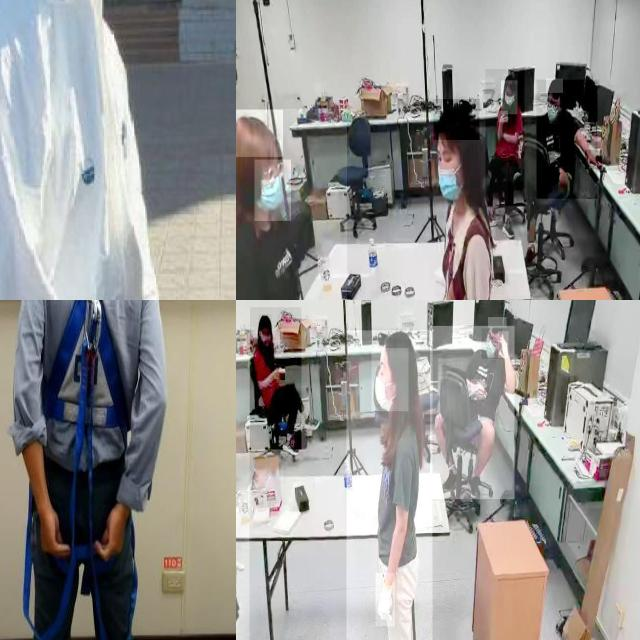Harness: (22, 300, 139, 640)
face_mask: (372, 348, 408, 411), (255, 159, 291, 221), (433, 143, 463, 212), (482, 328, 502, 358), (501, 80, 517, 114), (546, 96, 561, 132)
face_nomask: (260, 328, 272, 348)
hand_glove: (376, 573, 396, 627)
hand_noglove: (585, 150, 603, 170), (471, 379, 485, 400), (498, 331, 508, 358), (271, 365, 285, 380), (498, 111, 508, 123)
head_nohelmet: (236, 110, 283, 158), (434, 99, 480, 141), (380, 328, 412, 352), (546, 78, 564, 94), (488, 317, 507, 328), (503, 72, 519, 85), (258, 314, 272, 326)
person: (0, 0, 159, 300), (346, 330, 433, 640), (236, 109, 347, 300), (423, 102, 508, 300), (430, 326, 515, 500), (536, 80, 598, 200), (250, 308, 302, 450), (485, 69, 525, 207)
shoes: (500, 214, 515, 240)
